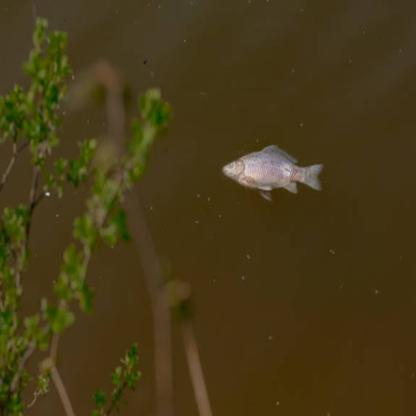deceased fish: (223, 147, 324, 199)
